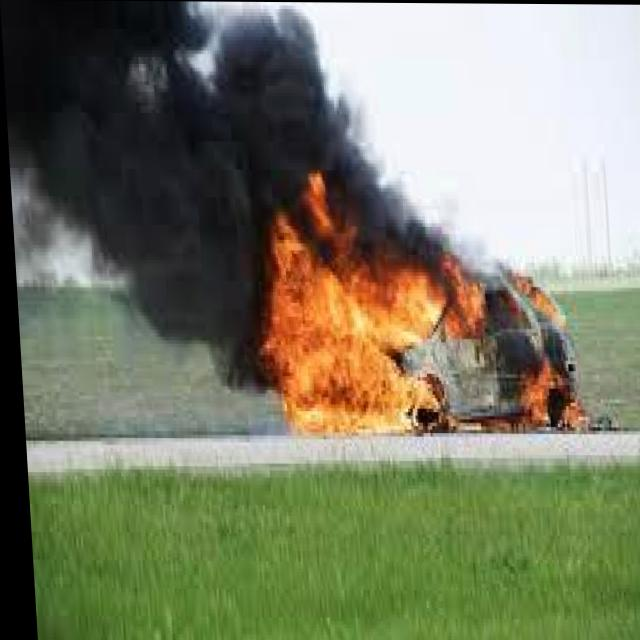fire: (245, 169, 584, 437)
